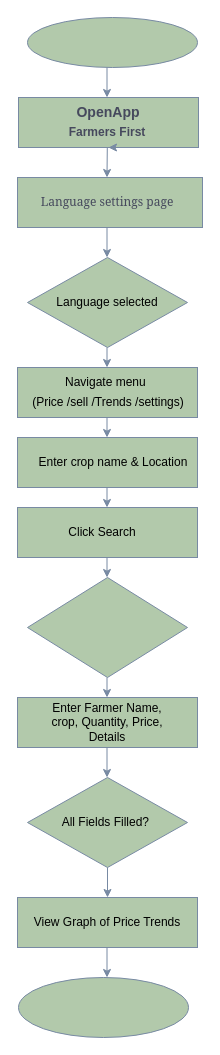
The diagram is 220 pixels wide and 1055 high, and some of its shapes have lost their labels. Each missing label, with the centre of its shape:
"Crop Found" belongs at [107,627].
"END" belongs at [103,1007].
"Start" belongs at [112,42].
